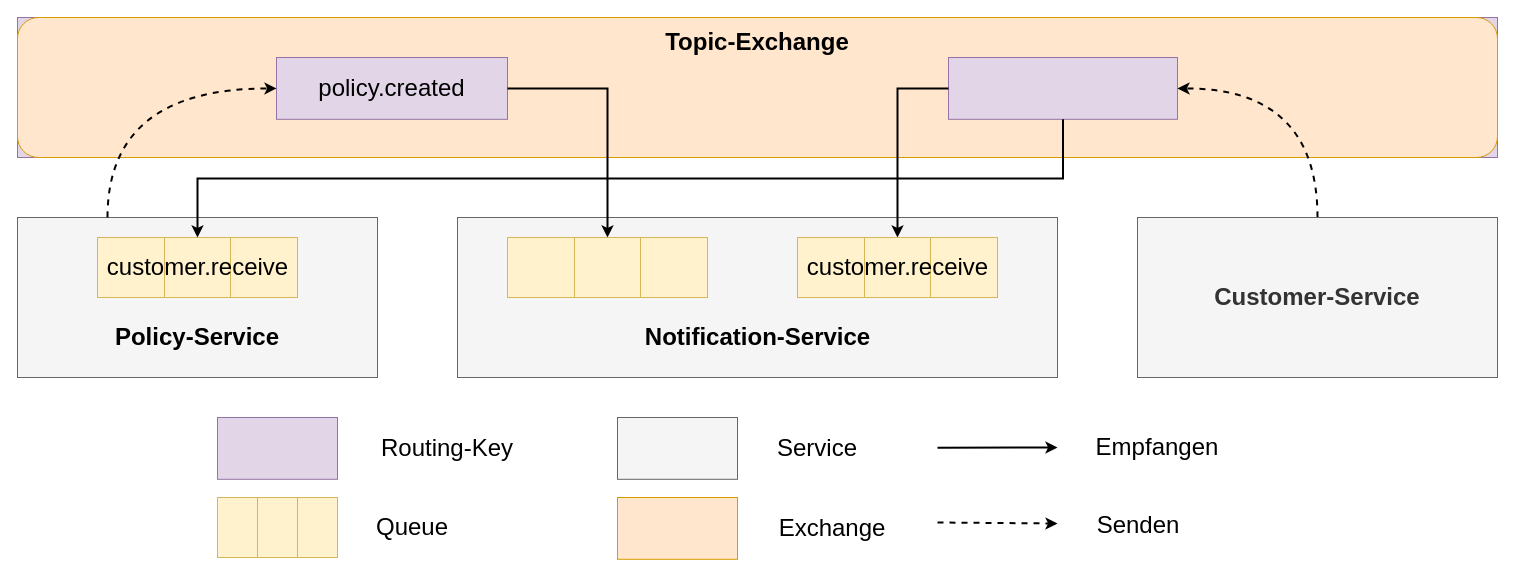
This 1515x577 diagram has some shape labels left out. Each missing label, with the centre of its shape:
customer.created: point (1063, 87)
policy.receive: point (607, 267)
